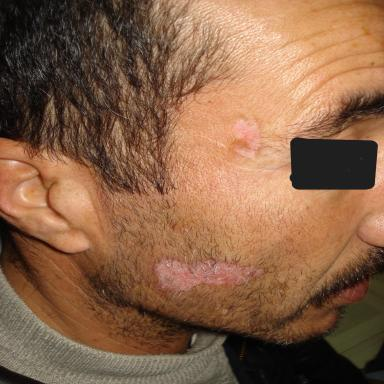Lupus-Erythematosus-Chronicus-Discoides: (153, 259, 263, 292), (233, 120, 261, 158)
